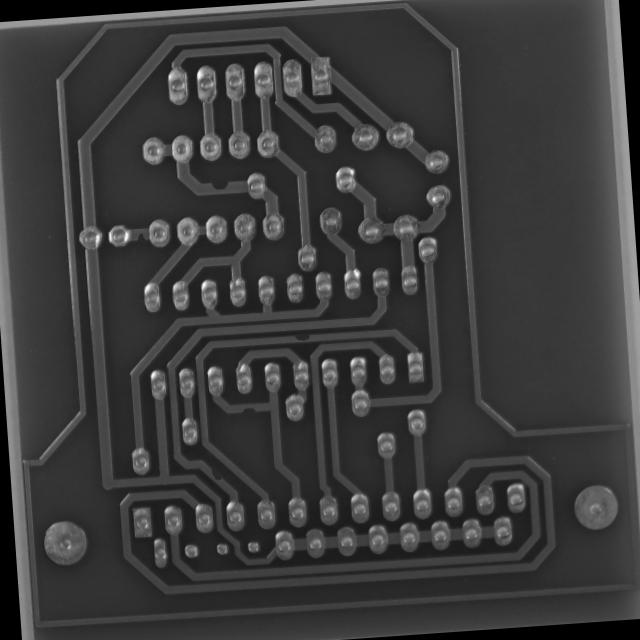mouse_bite: (206, 175, 232, 197), (205, 464, 230, 485), (288, 328, 314, 346), (131, 222, 149, 247), (237, 399, 259, 419)
